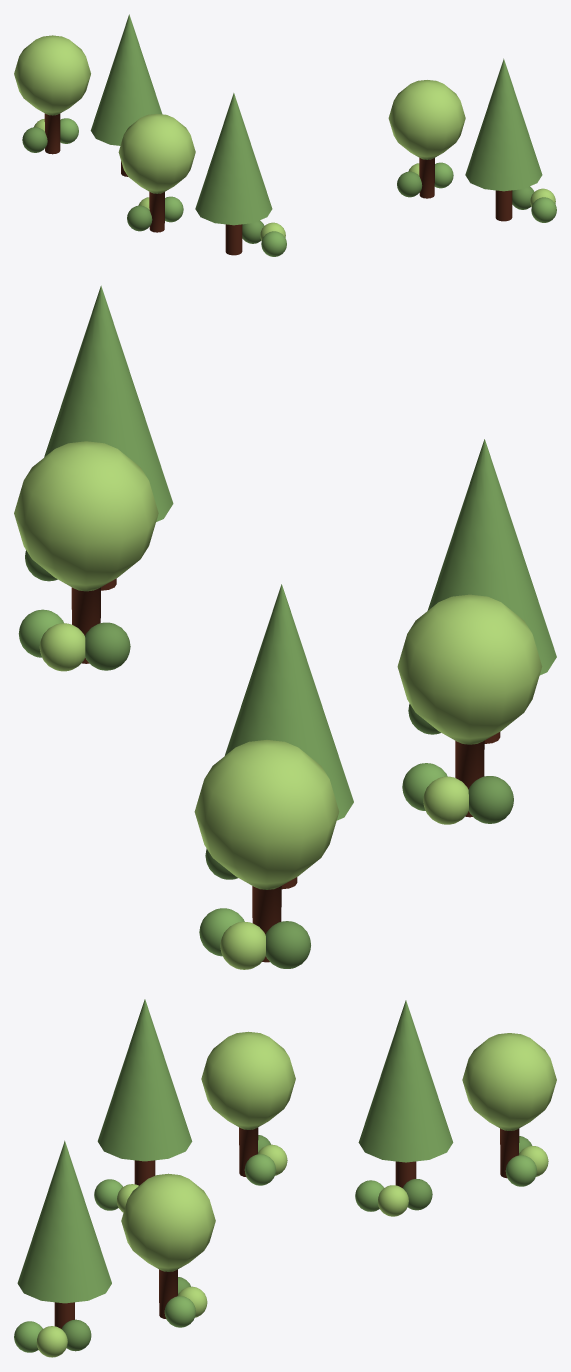
File: level_2_buildings_trees.fbx
3 renders of one model, top to bottom at view 1: azimuth 30°, elevation 25°; view 2: azimuth 150°, elevation 25°; view 3: azimuth 270°, elevation 25°, orthographic. The views are drawn at different scales.
Parts seen in each view (by area): view 1: Tree_1_2, Tree_1_3, Tree_2, Tree_2_2, Tree_2_3, Tree_1, Sphere_5, Sphere_3, Sphere_2_3, Sphere_2_5, Sphere_2_7, Sphere_2_2 (+4 smaller); view 2: Tree_2, Tree_2_2, Tree_2_3, Tree_1, Tree_1_2, Tree_1_3, Sphere_1_6, Sphere_1_4, Sphere_2_7, Sphere_1_2, Sphere_2_5, Sphere_2_3 (+3 smaller); view 3: Tree_1, Tree_1_3, Tree_1_2, Tree_2, Tree_2_2, Tree_2_3, Sphere_6, Sphere_1, Sphere_2_2, Sphere_1_5, Sphere_4, Sphere_2_6 (+7 smaller).
Boxes of the visible parts, left/top/right/bottom form: Tree_1_2: left=195, top=93, right=272, bottom=255; Tree_1_3: left=465, top=58, right=542, bottom=221; Tree_2: left=14, top=35, right=90, bottom=154; Tree_2_2: left=118, top=113, right=195, bottom=232; Tree_2_3: left=388, top=80, right=465, bottom=198; Tree_1: left=90, top=14, right=162, bottom=176; Sphere_5: left=531, top=197, right=556, bottom=222; Sphere_3: left=261, top=231, right=286, bottom=256; Sphere_2_3: left=22, top=127, right=47, bottom=152; Sphere_2_5: left=127, top=205, right=152, bottom=231; Sphere_2_7: left=397, top=171, right=422, bottom=197; Sphere_2_2: left=60, top=118, right=78, bottom=143; Tree_2: left=194, top=740, right=339, bottom=962; Tree_2_2: left=397, top=594, right=542, bottom=817; Tree_2_3: left=14, top=441, right=158, bottom=663; Tree_1: left=225, top=584, right=353, bottom=889; Tree_1_2: left=427, top=439, right=556, bottom=743; Tree_1_3: left=44, top=285, right=173, bottom=590; Sphere_1_6: left=39, top=623, right=85, bottom=671; Sphere_1_4: left=423, top=776, right=468, bottom=824; Sphere_2_7: left=85, top=622, right=130, bottom=670; Sphere_1_2: left=220, top=922, right=265, bottom=969; Sphere_2_5: left=468, top=776, right=513, bottom=823; Sphere_2_3: left=265, top=921, right=310, bottom=968; Tree_1: left=358, top=1000, right=453, bottom=1187; Tree_1_3: left=17, top=1140, right=111, bottom=1328; Tree_1_2: left=97, top=999, right=192, bottom=1185; Tree_2: left=462, top=1033, right=556, bottom=1178; Tree_2_2: left=201, top=1031, right=295, bottom=1177; Tree_2_3: left=121, top=1173, right=215, bottom=1318; Sphere_6: left=164, top=1296, right=195, bottom=1327; Sphere_1: left=378, top=1185, right=408, bottom=1216; Sphere_2_2: left=505, top=1155, right=536, bottom=1186; Sphere_1_5: left=36, top=1326, right=67, bottom=1357; Sphere_4: left=244, top=1154, right=275, bottom=1185; Sphere_2_6: left=61, top=1319, right=91, bottom=1351.
Size of the model in its own units: 15.71 by 6.85 by 17.21.
